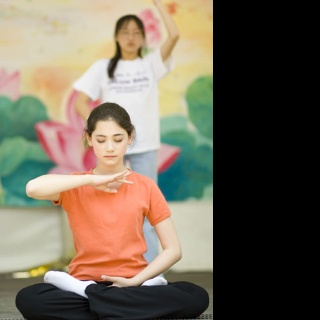without_mask: (90, 118, 128, 165), (114, 20, 144, 52)
